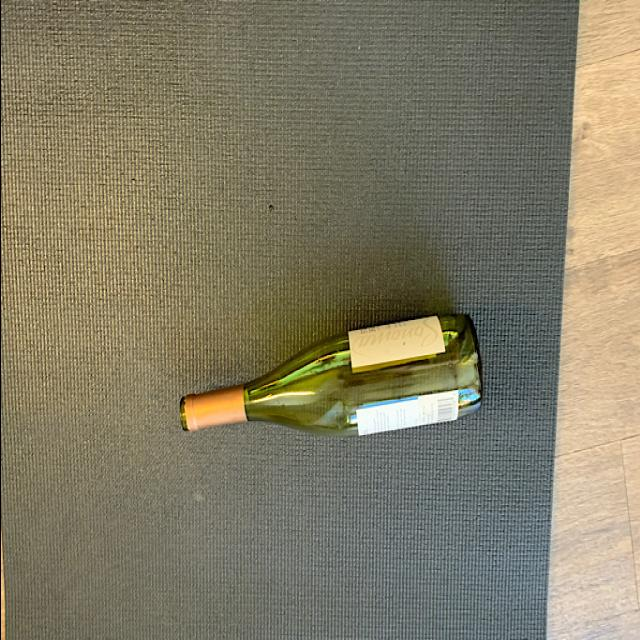litter: (180, 305, 488, 450)
